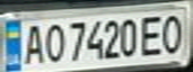0: (118, 15, 142, 58)
2: (103, 16, 124, 61)
4: (84, 17, 106, 62)
7: (63, 18, 87, 62)
A: (18, 21, 48, 65)
E: (136, 12, 169, 57)
O: (157, 11, 190, 55), (42, 20, 66, 64)
